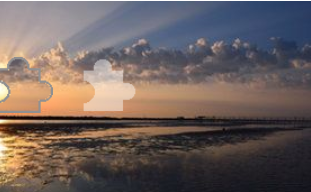target: (81, 57, 136, 114)
